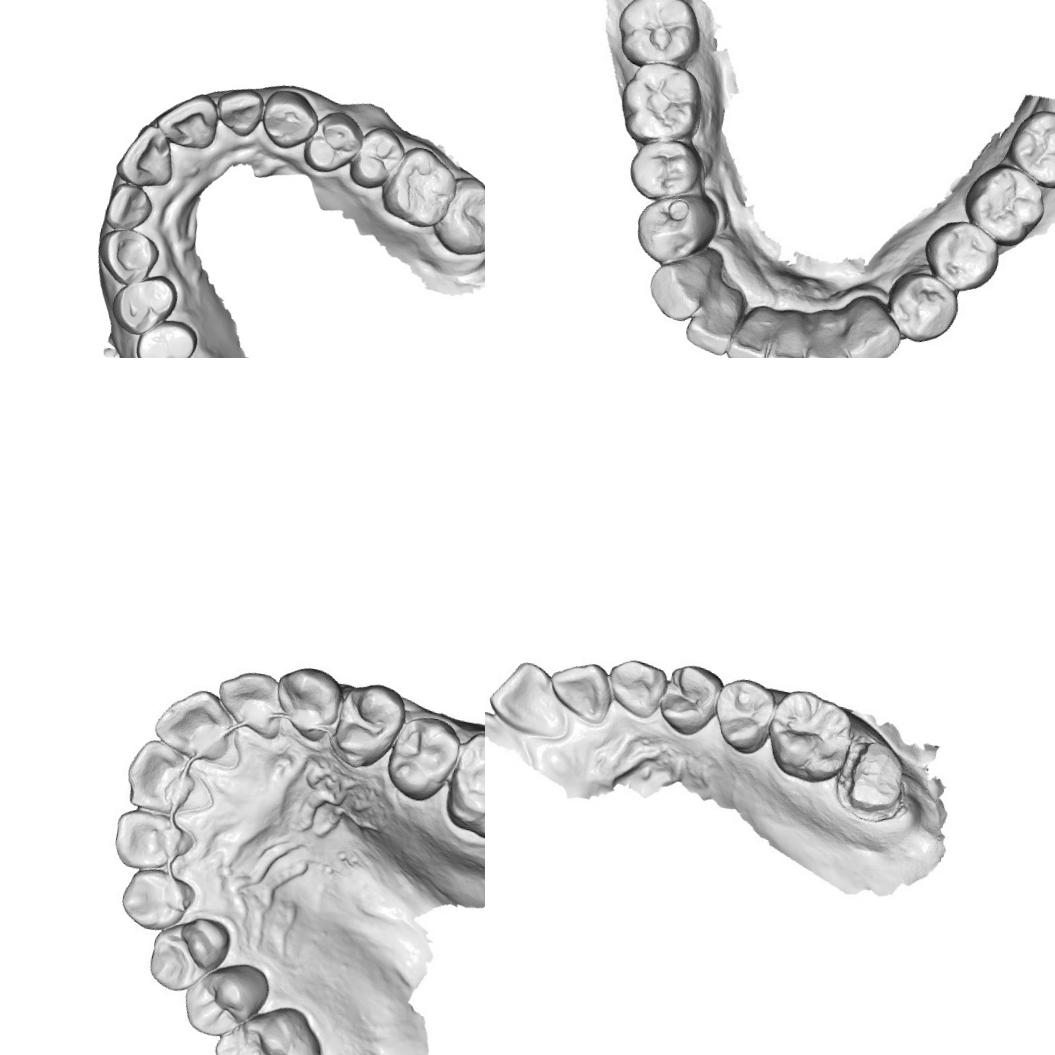canine: (639, 242, 720, 327), (115, 858, 198, 937), (271, 660, 346, 746), (92, 222, 164, 291), (256, 84, 324, 154), (602, 654, 670, 722), (838, 293, 905, 358)
crown: (835, 734, 911, 825)
incisor: (150, 680, 246, 767), (116, 736, 213, 818), (485, 654, 575, 741), (105, 802, 194, 878), (541, 654, 618, 727), (111, 116, 182, 192), (210, 664, 287, 734), (152, 86, 222, 152), (690, 279, 748, 352), (100, 179, 158, 237), (212, 82, 266, 139), (799, 306, 858, 358), (730, 297, 778, 358), (766, 303, 815, 358)
molar: (759, 683, 858, 788), (178, 951, 278, 1046), (374, 139, 464, 232), (618, 54, 702, 150), (142, 908, 231, 998), (962, 163, 1050, 249), (612, 0, 703, 70), (428, 170, 485, 261), (442, 726, 485, 845), (1006, 107, 1055, 192)
premolar: (630, 180, 724, 268), (206, 993, 330, 1055), (919, 214, 1008, 298), (328, 682, 408, 774), (884, 265, 967, 349), (622, 131, 710, 210), (387, 711, 460, 798), (707, 674, 779, 757), (105, 266, 182, 342), (654, 659, 726, 740), (297, 104, 368, 179), (344, 120, 410, 195), (130, 312, 201, 358)
